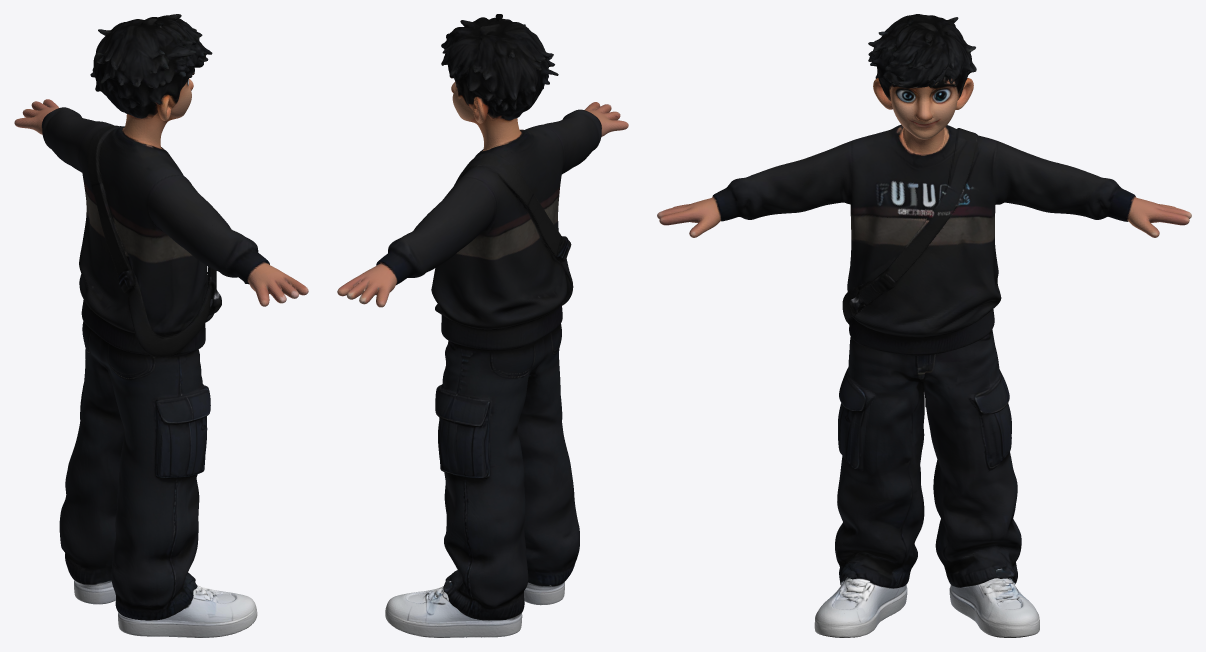
The model's file is character.glb.
The picture shows the model from 3 angles, left to right: view 1: azimuth 30°, elevation 25°; view 2: azimuth 150°, elevation 25°; view 3: azimuth 270°, elevation 25°; orthographic projection. The views are drawn at different scales.
Visible parts, largest first — view 1: tripo_node_a25a2d74-7faa-4894-bbf0-ebd61aefc85d; view 2: tripo_node_a25a2d74-7faa-4894-bbf0-ebd61aefc85d; view 3: tripo_node_a25a2d74-7faa-4894-bbf0-ebd61aefc85d.
Part boxes in pixels (x1,y1,x2,y2): tripo_node_a25a2d74-7faa-4894-bbf0-ebd61aefc85d: (14, 14, 308, 637); tripo_node_a25a2d74-7faa-4894-bbf0-ebd61aefc85d: (337, 14, 628, 637); tripo_node_a25a2d74-7faa-4894-bbf0-ebd61aefc85d: (657, 14, 1191, 637).
Bounding box in the file's own units: 0.2149 × 1 × 0.8073.
Materials: 1 (1 with a texture image).
